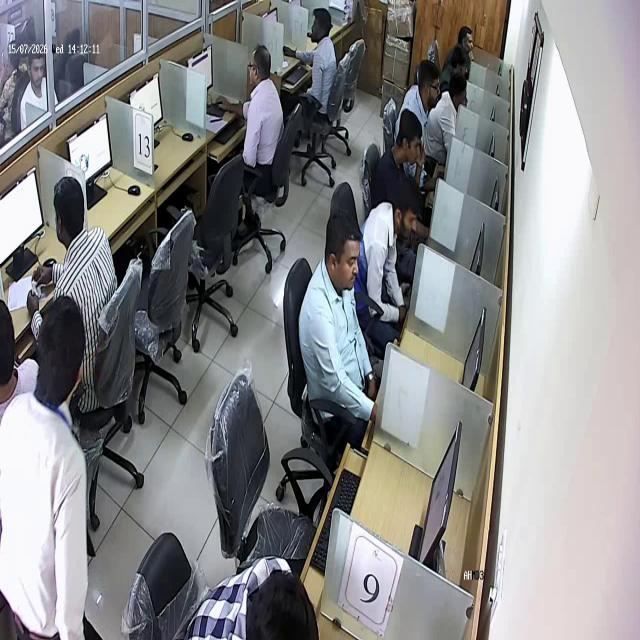paper-chit: (32, 278, 42, 296)
